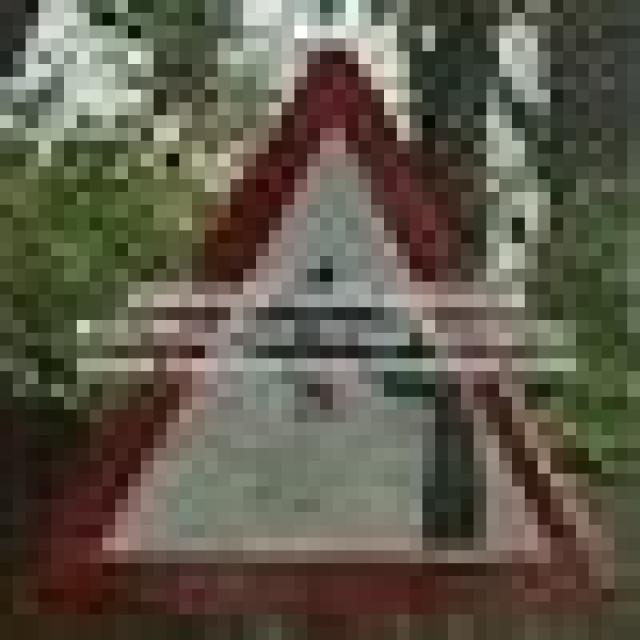LEFT_HAND_CURVE: (26, 38, 614, 589)
